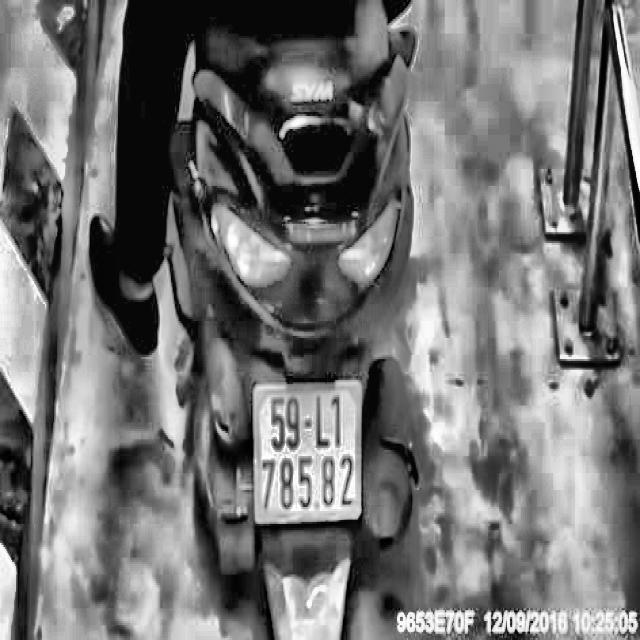plate: (247, 374, 368, 530)
